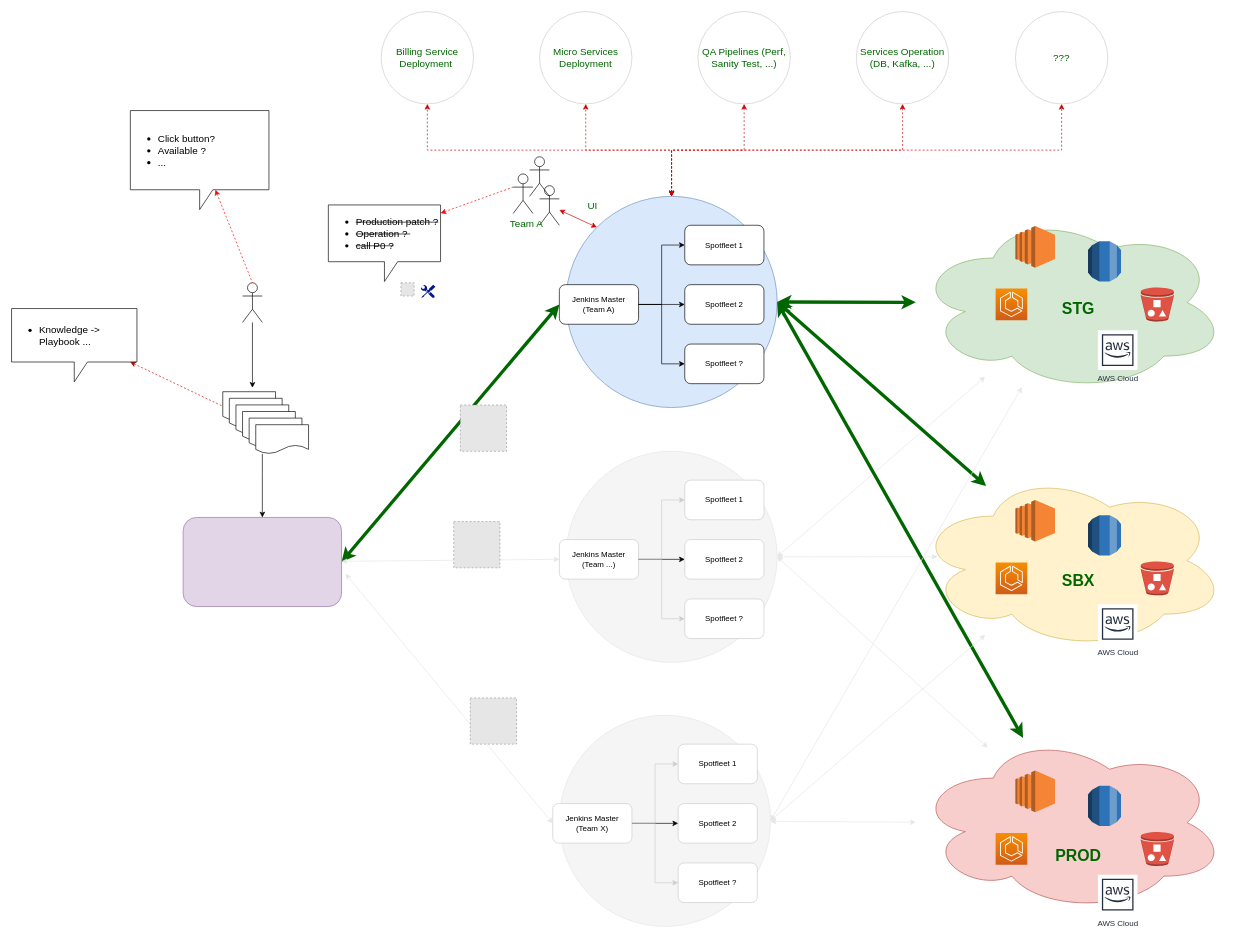
The diagram is 1238 pixels wide and 940 high, and some of its shapes have lost their labels. Grey dashed boxes stand in for pictures. Here are the shapes that lost their labels. From the top down, the centre of each, then its label:
point 252,302: Tools Team
point 262,562: Homer 3.0
